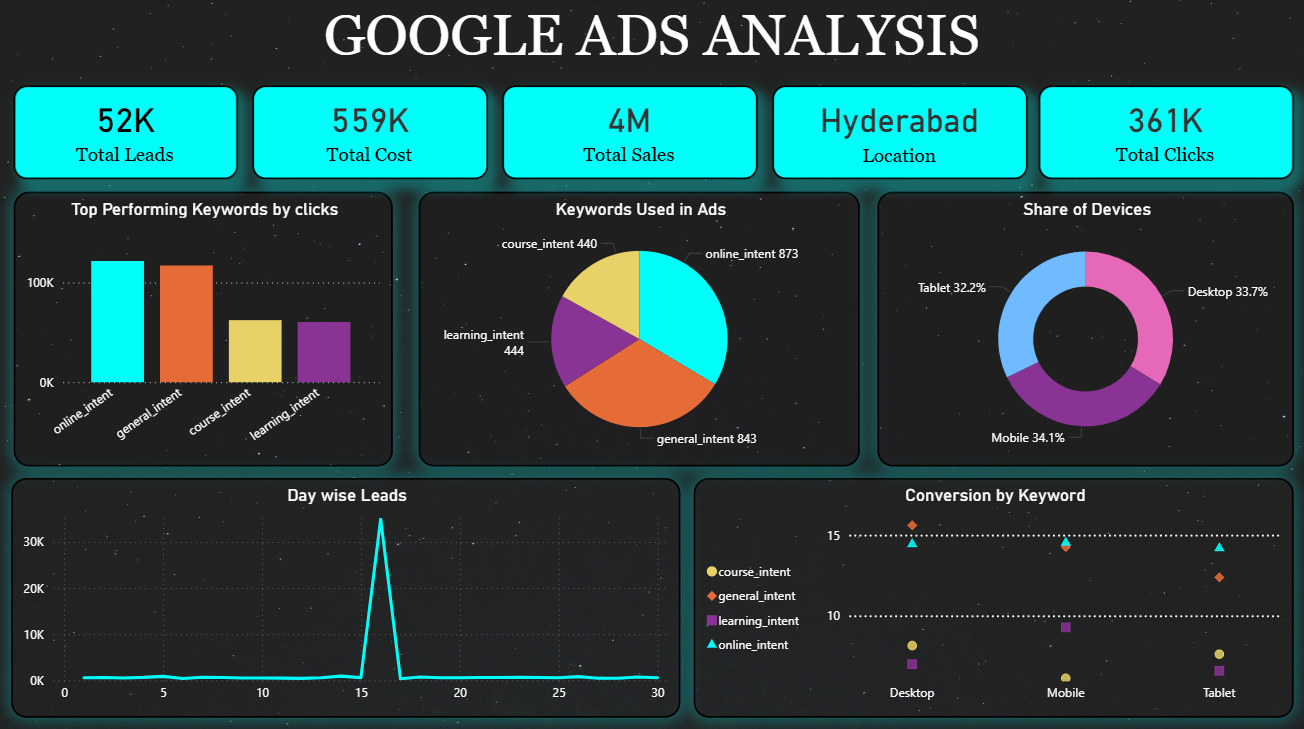

This screenshot's page, from the dashboard's own definition file:
{"tool":"powerbi","page":{"name":"Page 1","canvas":[1280,720],"ordinal":0},"visuals":[{"type":"textbox","box":[0,0,1279.8,74.8],"z":0},{"type":"lineStackedColumnComboChart","title":"Top Performing Keywords by clicks","fields":{"Category":["Clean_data.Keyword_Category"],"Y":["Sum(Clean_data.Clicks)"]},"box":[13.5,190.2,371.8,269.9],"z":1000},{"type":"scatterChart","title":"Conversion by Keyword","fields":{"X":["Clean_data.Device"],"Y":["Sum(Clean_data.Conversion Rate)"],"Series":["Clean_data.Keyword_Category"]},"box":[681,471.2,589,235.6],"z":2000},{"type":"pieChart","title":"Keywords Used in Ads","fields":{"Y":["CountNonNull(Clean_data.Keyword_Category)"],"Category":["Clean_data.Keyword_Category"]},"box":[411,190.2,433.1,269.9],"z":3000},{"type":"lineChart","title":"Day wise Leads","fields":{"Category":["Clean_data.Ad_Date.Variation.Date Hierarchy.Day"],"Y":["Sum(Clean_data.Leads)"]},"box":[11,471.2,656.4,235.6],"z":4000},{"type":"donutChart","title":"Share of Devices","fields":{"Series":["Clean_data.Device"],"Y":["Sum(Clean_data.Clicks)"]},"box":[861.4,190.2,408.6,269.9],"z":5000},{"type":"advanceCardE03760C5AB684758B56AA29F9E6C257B","fields":{"mainMeasure":["Clean_data.Total Leads"]},"box":[13.7,85.8,220.2,92.1],"z":6000},{"type":"advanceCardE03760C5AB684758B56AA29F9E6C257B","title":"Total Cost","fields":{"mainMeasure":["Clean_data.Total Cost"]},"box":[247.5,85.8,231.4,92.1],"z":7000},{"type":"advanceCardE03760C5AB684758B56AA29F9E6C257B","fields":{"mainMeasure":["Clean_data.Total Sales"]},"box":[493.9,85.8,250,92.1],"z":8000},{"type":"advanceCardE03760C5AB684758B56AA29F9E6C257B","fields":{"mainMeasure":["Min(Clean_data.Location)"]},"box":[758.8,85.8,250,92.1],"z":9000},{"type":"advanceCardE03760C5AB684758B56AA29F9E6C257B","fields":{"mainMeasure":["Sum(Clean_data.Clicks)"]},"box":[1020,85.8,250,92.1],"z":10000}]}

Visuals, with their boxes in screenshot pixels (x1, y1, x2, y2), scaled from the page's 1280x720 canvas onto the 1304x729 screenshot:
textbox: {"x1": 0, "y1": 0, "x2": 1303, "y2": 76}
"Top Performing Keywords by clicks" lineStackedColumnComboChart: {"x1": 14, "y1": 193, "x2": 393, "y2": 466}
"Conversion by Keyword" scatterChart: {"x1": 694, "y1": 477, "x2": 1294, "y2": 716}
"Keywords Used in Ads" pieChart: {"x1": 419, "y1": 193, "x2": 860, "y2": 466}
"Day wise Leads" lineChart: {"x1": 11, "y1": 477, "x2": 680, "y2": 716}
"Share of Devices" donutChart: {"x1": 878, "y1": 193, "x2": 1294, "y2": 466}
advanceCardE03760C5AB684758B56AA29F9E6C257B - Clean_data.Total Leads: {"x1": 14, "y1": 87, "x2": 238, "y2": 180}
"Total Cost" advanceCardE03760C5AB684758B56AA29F9E6C257B: {"x1": 252, "y1": 87, "x2": 488, "y2": 180}
advanceCardE03760C5AB684758B56AA29F9E6C257B - Clean_data.Total Sales: {"x1": 503, "y1": 87, "x2": 758, "y2": 180}
advanceCardE03760C5AB684758B56AA29F9E6C257B - Min(Clean_data.Location): {"x1": 773, "y1": 87, "x2": 1028, "y2": 180}
advanceCardE03760C5AB684758B56AA29F9E6C257B - Sum(Clean_data.Clicks): {"x1": 1039, "y1": 87, "x2": 1294, "y2": 180}
